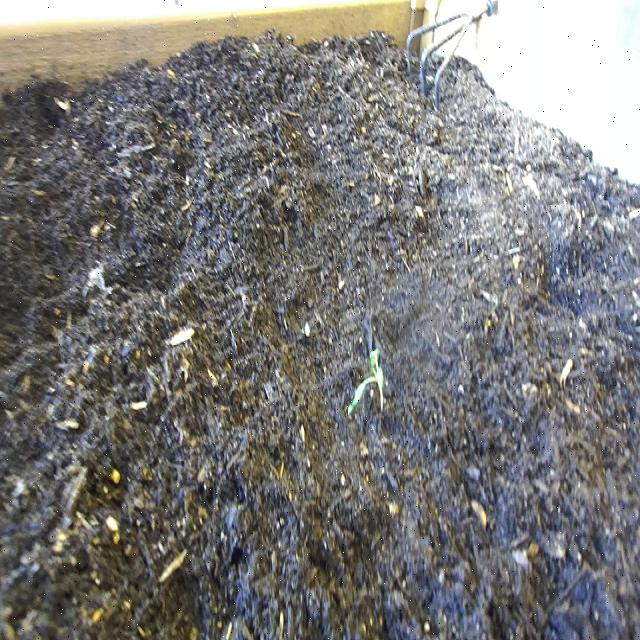Healthy: (343, 344, 392, 426)
